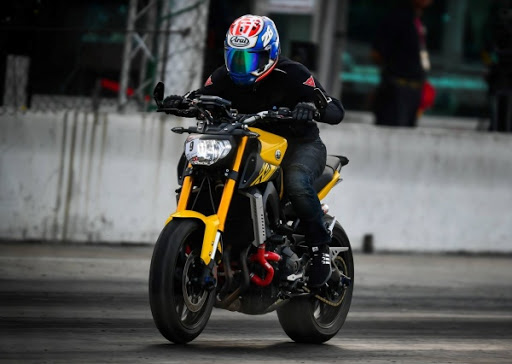helmet: (220, 8, 288, 90)
